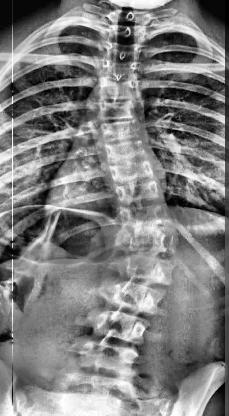Vertebrae: (62, 335, 136, 375), (113, 252, 183, 290), (103, 276, 163, 318), (88, 310, 152, 346), (122, 222, 182, 256), (114, 206, 180, 232), (115, 182, 169, 204), (107, 162, 161, 184), (97, 57, 141, 84), (105, 5, 155, 28), (95, 80, 139, 104), (108, 142, 152, 165), (108, 38, 146, 62), (97, 100, 137, 120), (108, 25, 150, 43), (104, 120, 144, 138)
